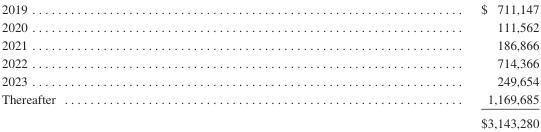table: (0, 1, 538, 129)
table column: (267, 1, 538, 129), (0, 1, 267, 129)
table row: (0, 89, 538, 110), (0, 110, 538, 129), (0, 17, 538, 35), (0, 35, 538, 53), (0, 53, 538, 71), (0, 71, 538, 89), (0, 1, 538, 17)
